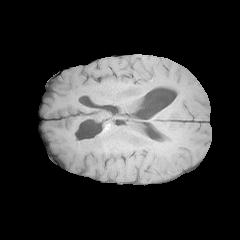glioma: (70, 107, 113, 153)
